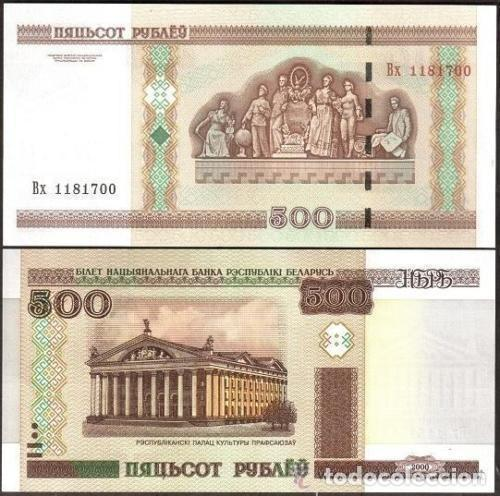belarus_ruble_500: (2, 1, 500, 245), (3, 251, 495, 495)
